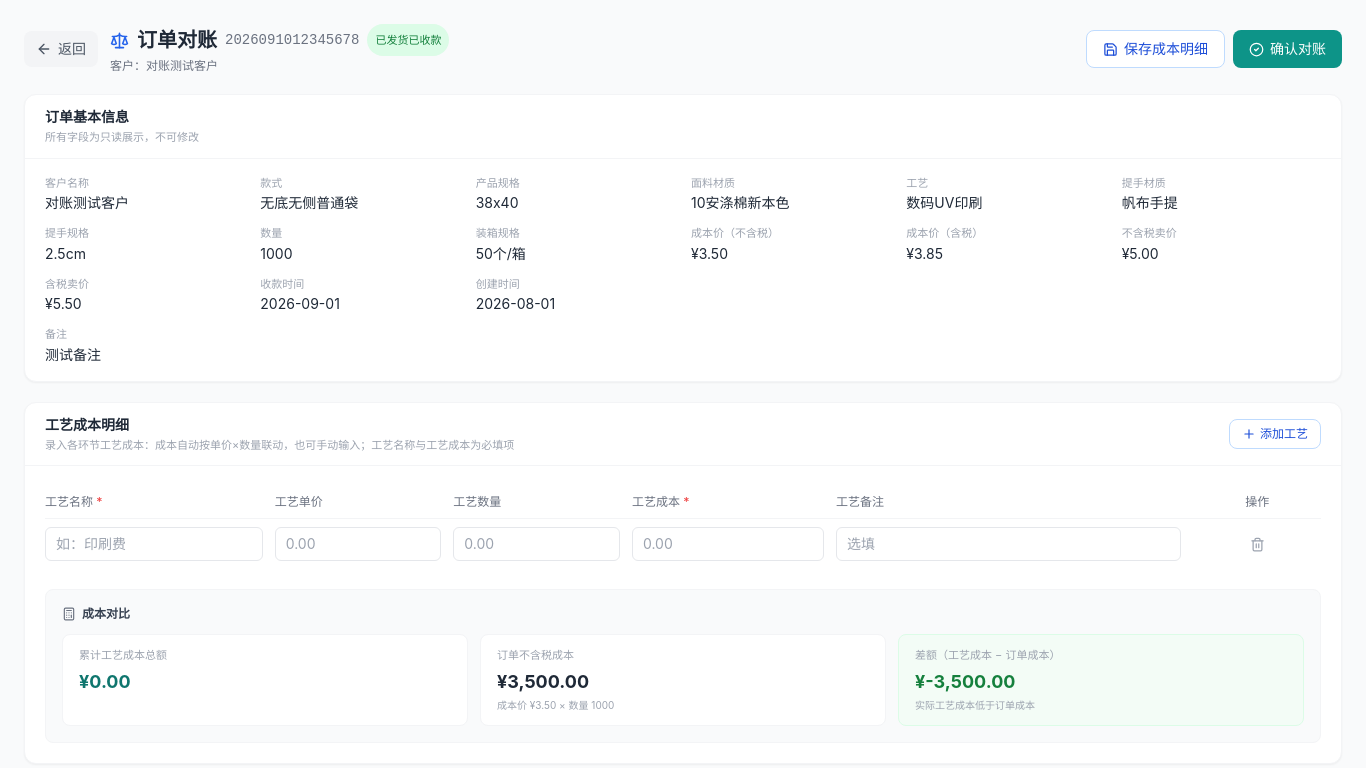
Test case: 对账详情页 - 工艺成本录入（状态5） › 初始渲染一行空明细，可添加/删除行
Expected: the heading "工艺成本明细" is shown, [45, 416, 129, 432]
Expected: the number of fields with placeholder "如：印刷费" is 1, [45, 527, 263, 561]
Click the button "添加工艺": [1275, 434] box [1229, 419, 1321, 449]
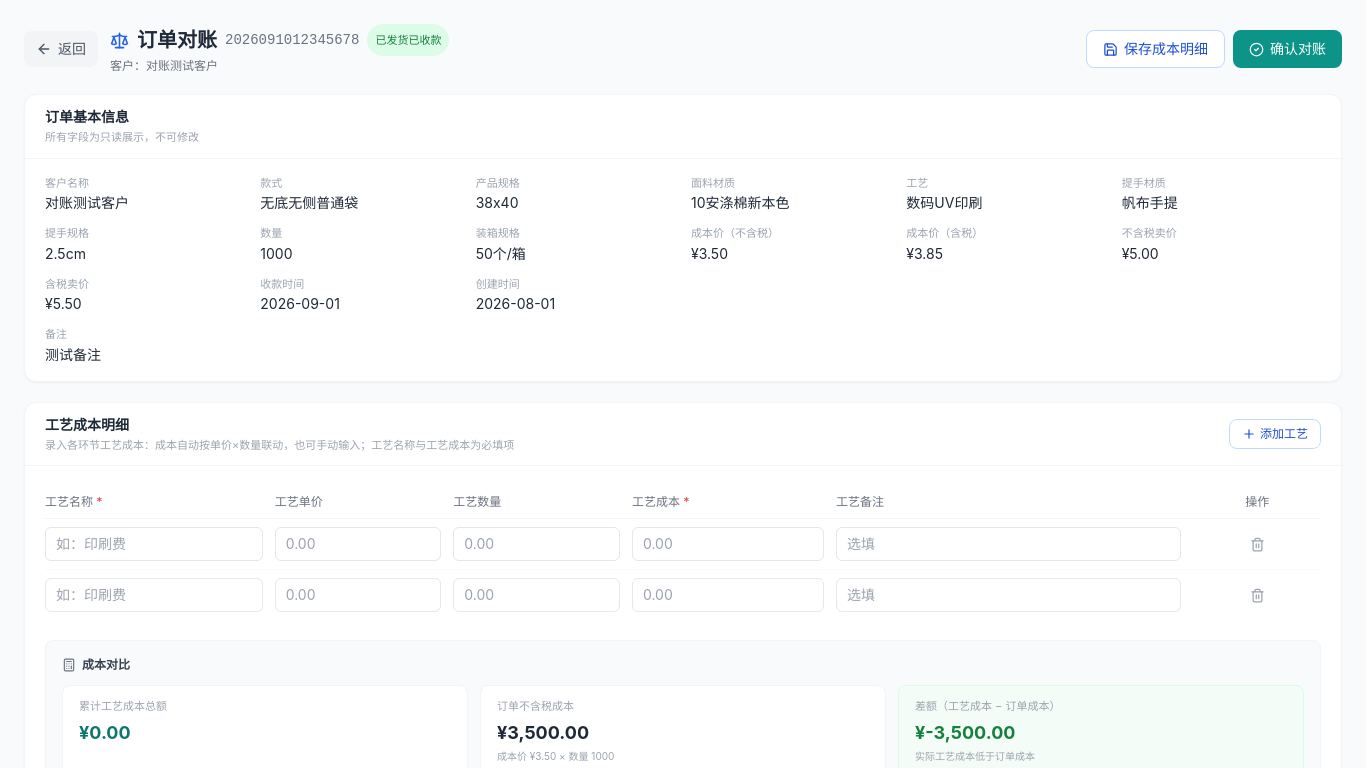
Now the number of fields with placeholder "如：印刷费" is 2, box [45, 527, 263, 561]; [45, 578, 263, 612]
# 删除第一行（每行有一个删除按钮）
Click the 1st button titled "删除该行": [1257, 544] box [1244, 530, 1271, 558]
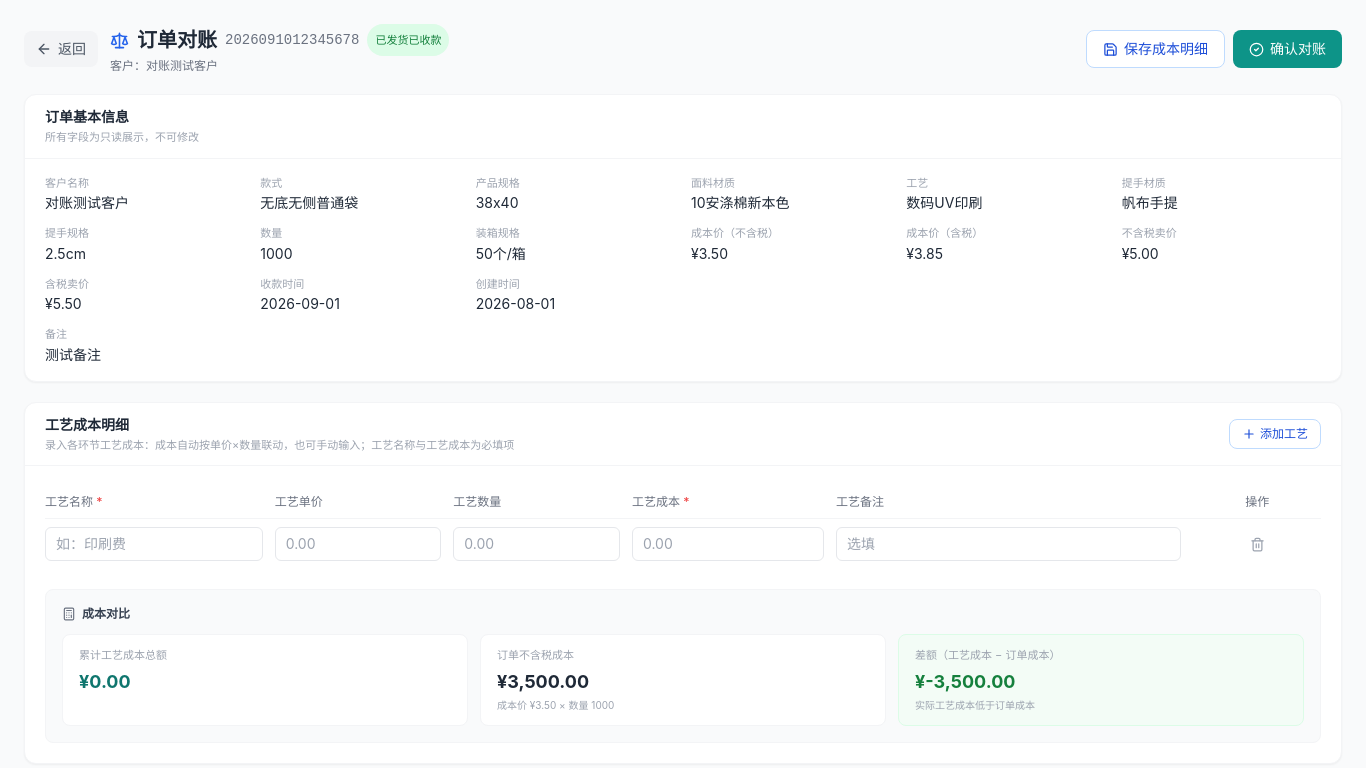
Now the number of fields with placeholder "如：印刷费" is 1, box [45, 527, 263, 561]
